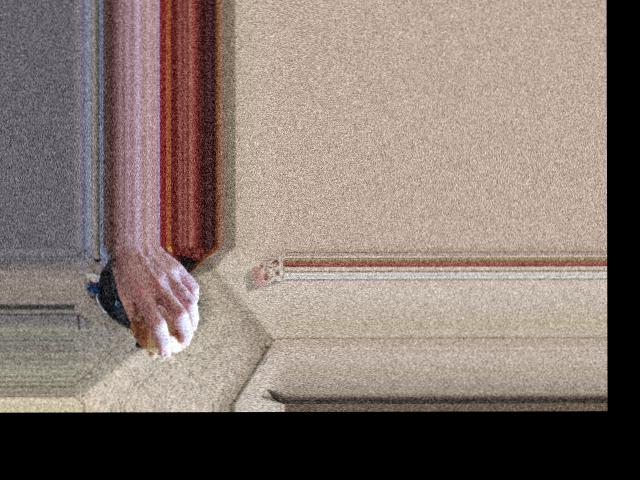onion: (133, 300, 191, 354)
